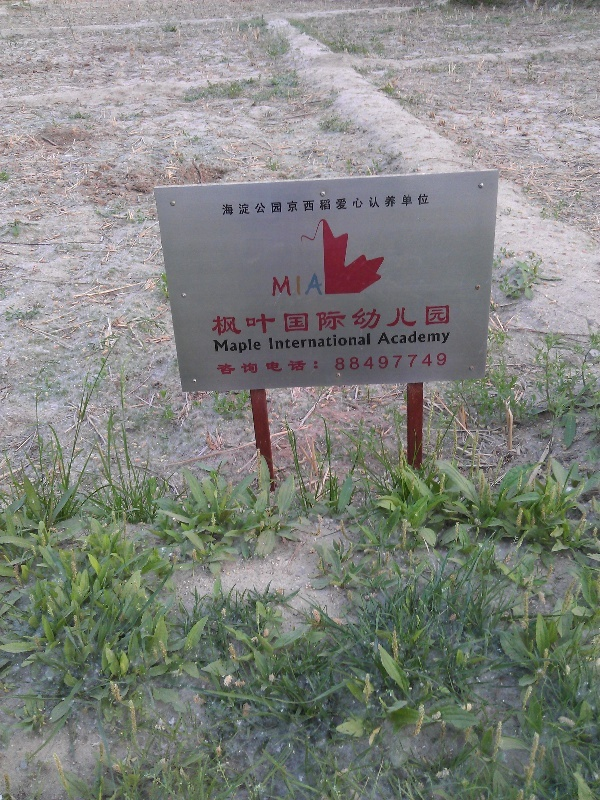text: (225, 304, 240, 338), (241, 304, 256, 338), (257, 304, 272, 338), (273, 304, 288, 338), (289, 304, 304, 338), (305, 304, 320, 338), (321, 304, 336, 338), (337, 304, 352, 338), (353, 304, 368, 338), (369, 304, 384, 338), (385, 304, 400, 338), (401, 304, 416, 338), (417, 304, 432, 338), (433, 304, 448, 338), (433, 352, 449, 378), (273, 272, 288, 299), (289, 272, 304, 299), (305, 272, 320, 299), (225, 352, 240, 378), (241, 352, 256, 378), (257, 352, 272, 378), (273, 352, 288, 378), (289, 352, 304, 378), (305, 352, 320, 378), (321, 352, 336, 378), (337, 352, 352, 378), (353, 352, 368, 378), (369, 352, 384, 378), (385, 352, 400, 378), (401, 352, 416, 378), (417, 352, 432, 378), (225, 193, 240, 217), (241, 193, 256, 217), (257, 193, 272, 217), (273, 193, 288, 217), (289, 193, 304, 217), (305, 193, 320, 217), (321, 193, 336, 217), (337, 193, 352, 217), (353, 193, 368, 217), (369, 193, 384, 217), (385, 193, 400, 217), (401, 193, 416, 217), (214, 304, 224, 338), (417, 193, 429, 217), (225, 338, 240, 357), (241, 338, 256, 357), (385, 329, 400, 348), (401, 329, 416, 348), (417, 329, 432, 348), (433, 329, 448, 348), (273, 333, 288, 351), (289, 333, 304, 351), (305, 333, 320, 351), (321, 333, 336, 351), (337, 333, 352, 351), (353, 333, 368, 351), (214, 338, 224, 357), (218, 352, 224, 378), (377, 329, 384, 348), (257, 338, 263, 357), (321, 272, 325, 299), (449, 304, 452, 338), (449, 329, 453, 348), (221, 193, 224, 217), (268, 333, 272, 351), (270, 272, 272, 299), (369, 333, 372, 351)
